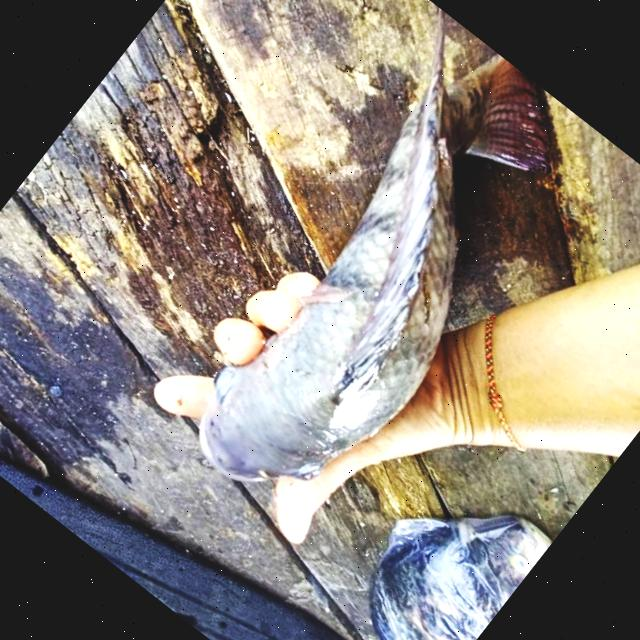Tilapia Lake Virus -TiLV-: (125, 4, 613, 540)
